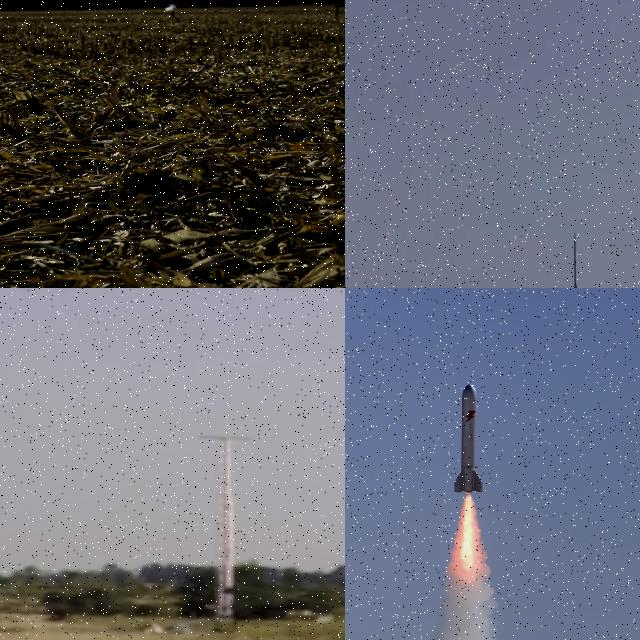Rocket: (443, 386, 495, 502), (222, 498, 236, 592), (572, 230, 578, 288), (168, 0, 175, 9)
